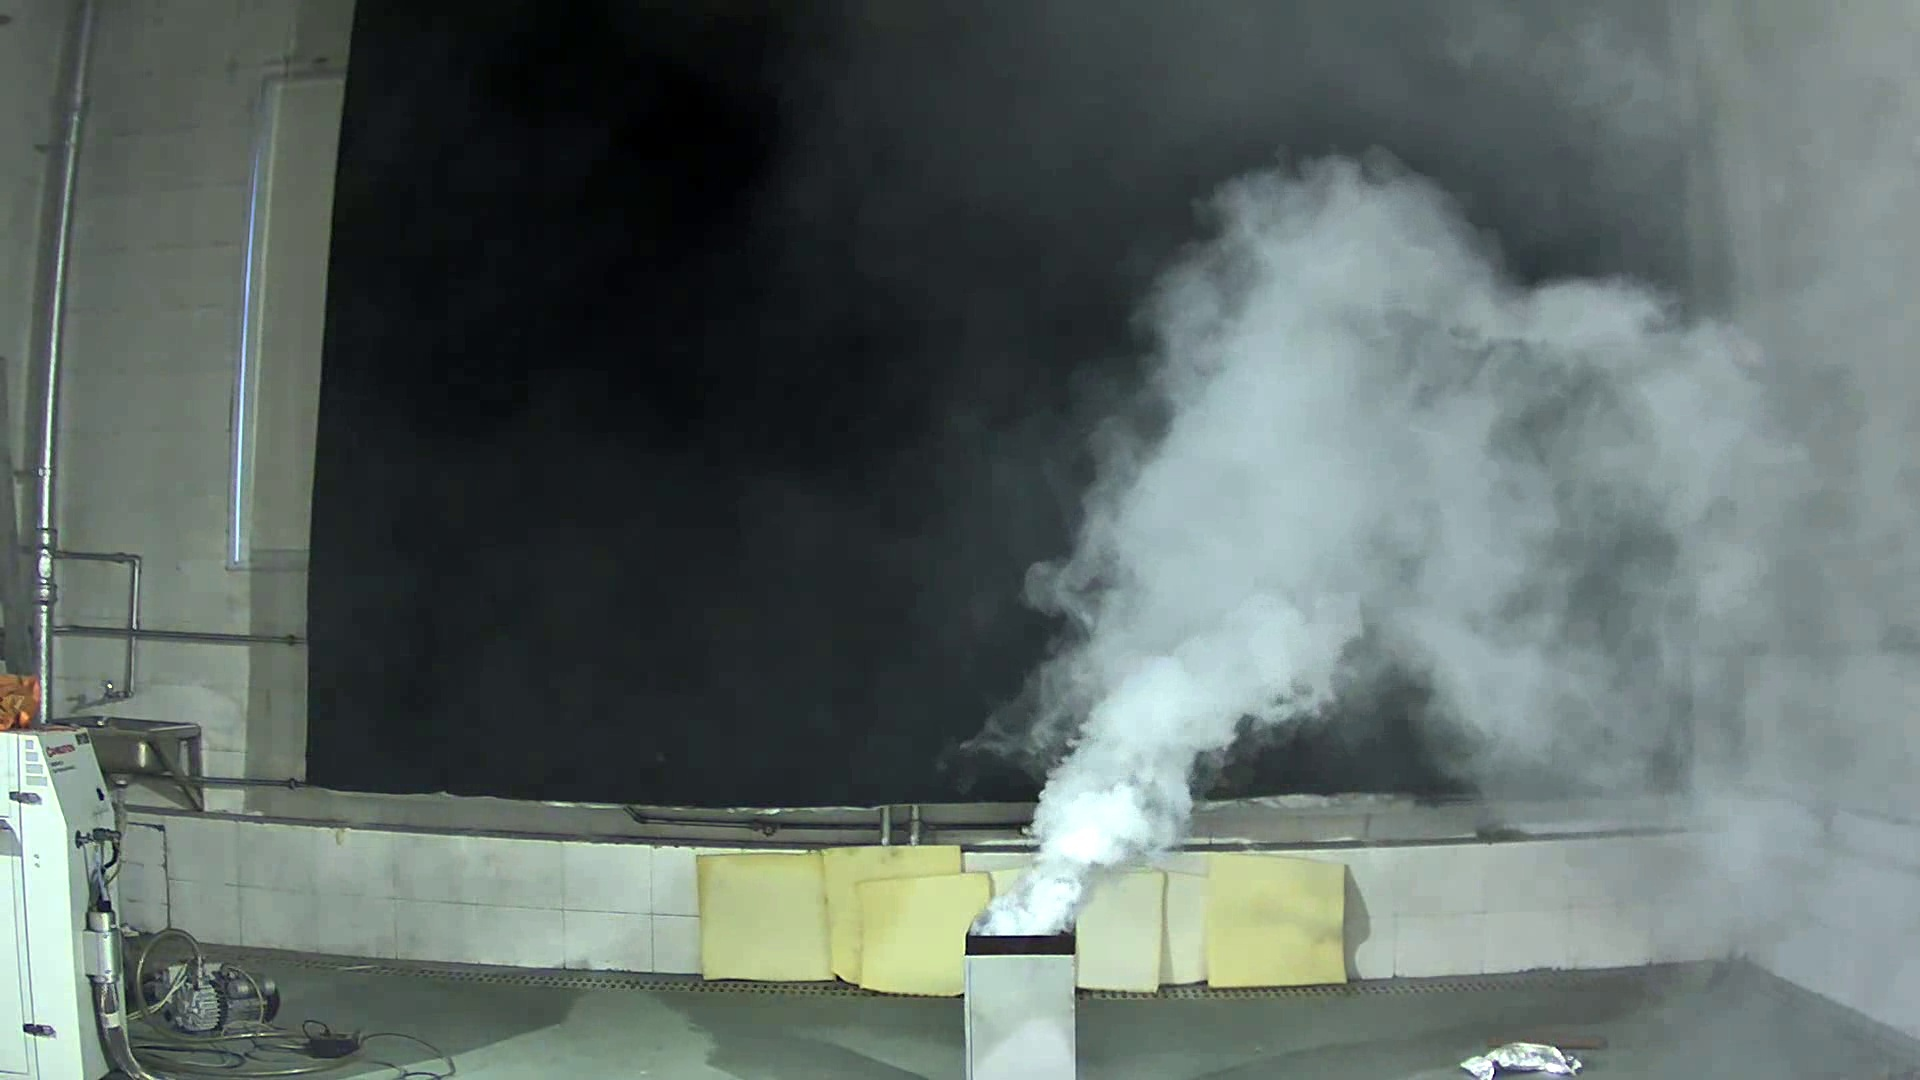smoke: (945, 149, 1821, 959)
